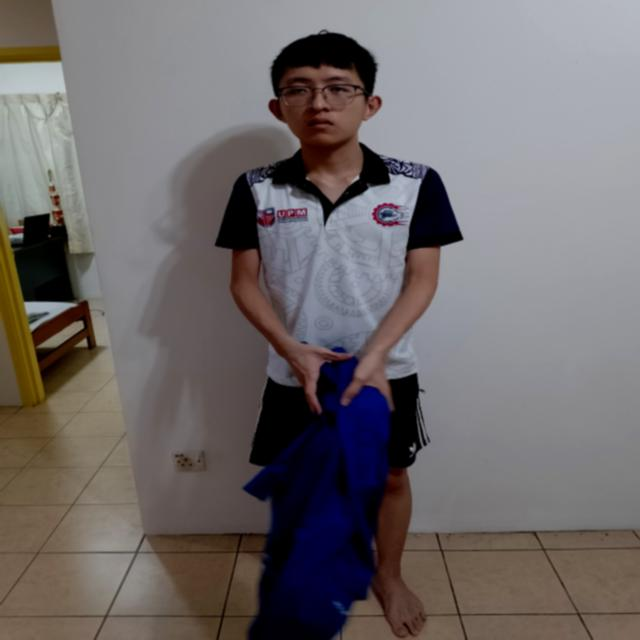person_without_labcoat: (216, 33, 462, 640)
